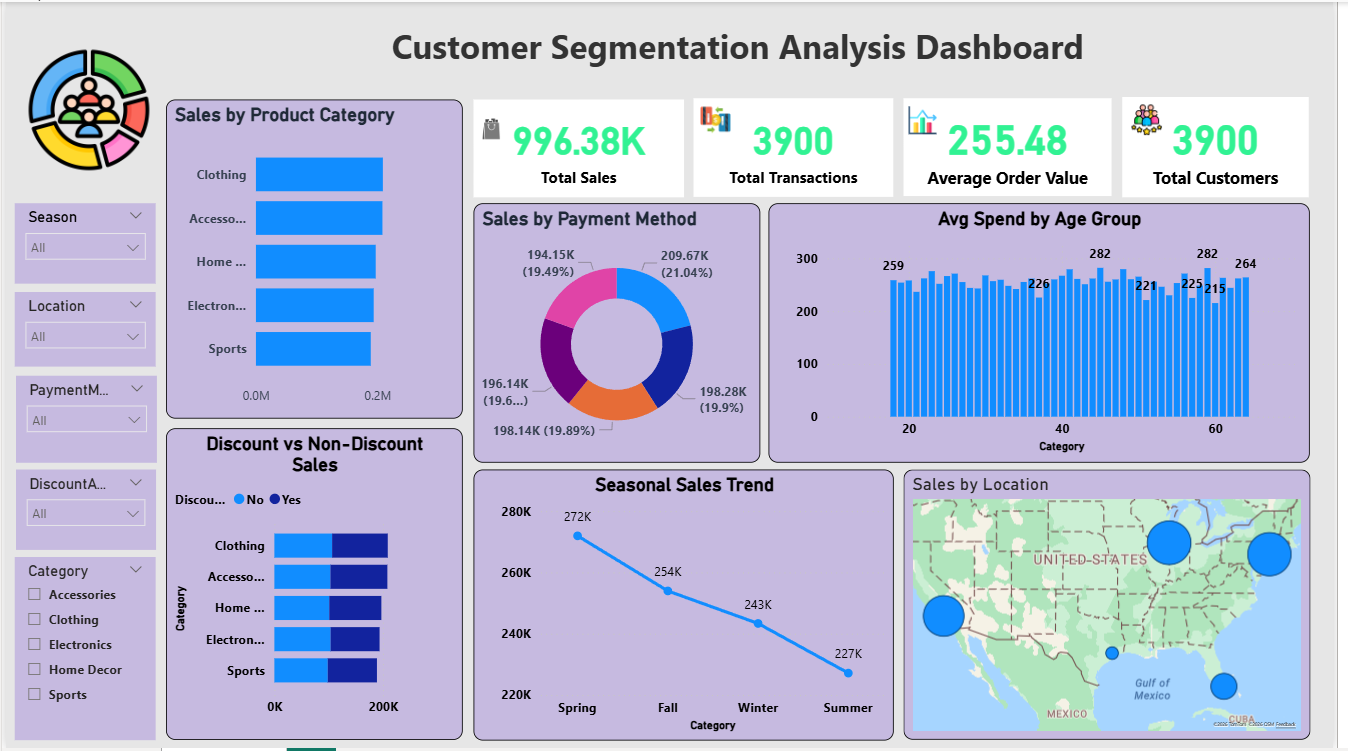

The dashboard page shown, as its layout file describes it:
{"tool":"powerbi","page":{"name":"Dashboard","canvas":[1280,720],"ordinal":0},"visuals":[{"type":"shape","box":[154.4,8.7,1103.7,66.4],"z":0},{"type":"card","fields":{"Values":["shopping_trends.Total Sales"]},"box":[451.2,94.2,203.5,94.2],"z":1000},{"type":"card","fields":{"Values":["shopping_trends.Total Transactions"]},"box":[664,93,193,95.3],"z":2000},{"type":"card","fields":{"Values":["shopping_trends.Average Order Value"]},"box":[866.3,93,201.2,94.2],"z":3000},{"type":"card","fields":{"Values":["shopping_trends.Total Customers"]},"box":[1077.9,91.9,180.2,96.5],"z":4000},{"type":"barChart","title":"Sales by Product Category","fields":{"Y":["Sum(shopping_trends.PurchaseAmountUSD)"],"Category":["shopping_trends.Category"]},"box":[154.7,94.2,286,308.1],"z":5000},{"type":"donutChart","title":"Sales by Payment Method","fields":{"Category":["shopping_trends.PaymentMethod"],"Y":["Sum(shopping_trends.PurchaseAmountUSD)"]},"box":[451.2,194.2,276.7,250],"z":6000},{"type":"columnChart","title":"Avg Spend by Age Group","fields":{"Category":["shopping_trends.Age"],"Y":["Avg(shopping_trends.PurchaseAmountUSD)"]},"box":[736,194.2,522.1,250],"z":7000},{"type":"lineChart","title":"Seasonal Sales Trend","fields":{"Category":["shopping_trends.Season"],"Y":["shopping_trends.Total Sales"]},"box":[451.2,451.2,405.8,261.6],"z":8000},{"type":"barChart","title":"Discount vs Non-Discount Sales","fields":{"Series":["shopping_trends.DiscountApplied"],"Category":["shopping_trends.Category"],"Y":["shopping_trends.Total Sales"]},"box":[154.7,411.6,286,301.2],"z":9000},{"type":"azureMap","title":" Sales by Location","fields":{"Category":["shopping_trends.Location"],"Size":["shopping_trends.Total Sales"]},"box":[865.7,451.6,392.4,261.1],"z":10000},{"type":"slicer","fields":{"Values":["shopping_trends.Season"]},"box":[8.1,194.2,136,77.9],"z":11000},{"type":"slicer","fields":{"Values":["shopping_trends.Category"]},"box":[8.1,536,136,176.7],"z":12000},{"type":"slicer","fields":{"Values":["shopping_trends.PaymentMethod"]},"box":[9.3,360.5,136,83.7],"z":13000},{"type":"slicer","fields":{"Values":["shopping_trends.Location"]},"box":[8.1,280.2,136,72.1],"z":14000},{"type":"slicer","fields":{"Values":["shopping_trends.DiscountApplied"]},"box":[9.3,451.2,134.9,77.9],"z":15000},{"type":"image","box":[17.4,38.4,126.7,131.4],"z":16000},{"type":"image","box":[451.2,94.2,34.9,57],"z":17000},{"type":"image","box":[664,94.2,41.9,39.5],"z":18000},{"type":"image","box":[866.3,94.2,37.2,39.5],"z":19000},{"type":"image","box":[1077.9,94.2,47.7,39.5],"z":20000}]}

Visuals, with their boxes in screenshot pixels (x1, y1, x2, y2), scaled from the page's 1280x720 canvas onto the 1348x751 screenshot:
shape: region(163, 9, 1325, 78)
card - shopping_trends.Total Sales: region(475, 98, 689, 197)
card - shopping_trends.Total Transactions: region(699, 97, 903, 196)
card - shopping_trends.Average Order Value: region(912, 97, 1124, 195)
card - shopping_trends.Total Customers: region(1135, 96, 1325, 197)
"Sales by Product Category" barChart: region(163, 98, 464, 420)
"Sales by Payment Method" donutChart: region(475, 203, 767, 463)
"Avg Spend by Age Group" columnChart: region(775, 203, 1325, 463)
"Seasonal Sales Trend" lineChart: region(475, 471, 903, 743)
"Discount vs Non-Discount Sales" barChart: region(163, 429, 464, 743)
" Sales by Location" azureMap: region(912, 471, 1325, 743)
slicer - shopping_trends.Season: region(9, 203, 152, 284)
slicer - shopping_trends.Category: region(9, 559, 152, 743)
slicer - shopping_trends.PaymentMethod: region(10, 376, 153, 463)
slicer - shopping_trends.Location: region(9, 292, 152, 367)
slicer - shopping_trends.DiscountApplied: region(10, 471, 152, 552)
image: region(18, 40, 152, 177)
image: region(475, 98, 512, 158)
image: region(699, 98, 743, 139)
image: region(912, 98, 951, 139)
image: region(1135, 98, 1185, 139)
